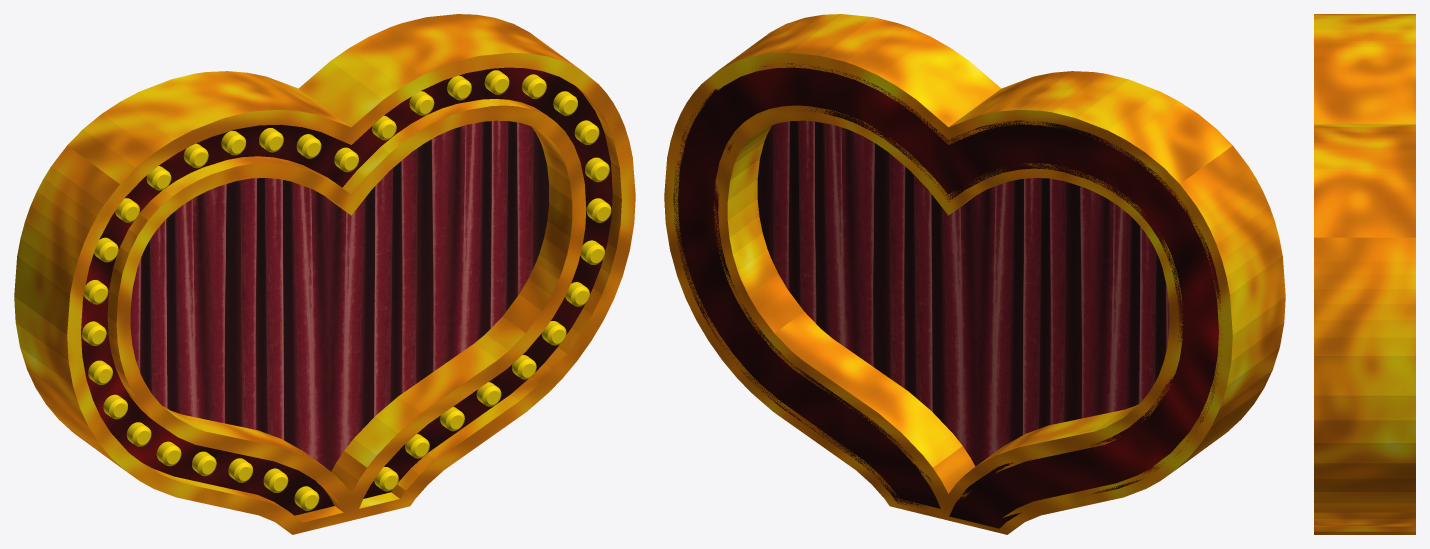
The model's file is heart_waku.glb.
3 views of the same model, side by side, from view 1: azimuth 30°, elevation 25°; view 2: azimuth 150°, elevation 25°; view 3: azimuth 270°, elevation 25° (orthographic). The views are drawn at different scales.
Parts seen in each view (by area): view 1: Curve, 平面.001, 平面; view 2: Curve, 平面.001, 平面; view 3: Curve.
Part boxes in pixels (left/top/right/bottom): Curve: left=14, top=14, right=635, bottom=534; 平面.001: left=329, top=120, right=549, bottom=471; 平面: left=130, top=178, right=329, bottom=469; Curve: left=664, top=14, right=1285, bottom=534; 平面.001: left=757, top=120, right=977, bottom=466; 平面: left=977, top=178, right=1169, bottom=464; Curve: left=1314, top=14, right=1415, bottom=534.
Bounding box in the file's own units: 1.32 × 0.9595 × 0.2123.
4 materials, 3 textured.
